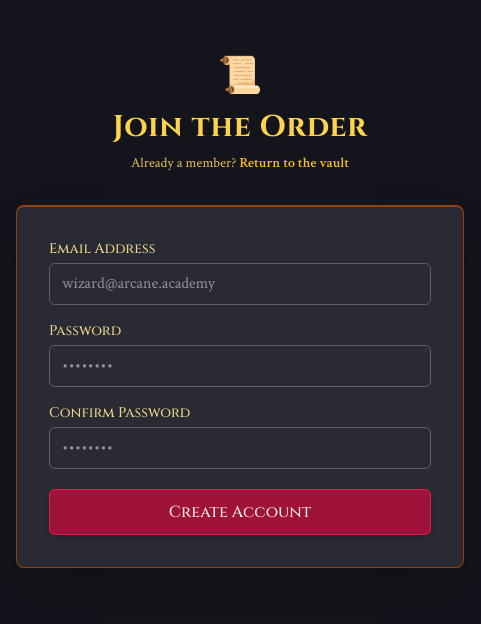
Test case: RegisterPage › shows a fallback error message when registration fails without response data
Step 1. Type "new@test.com" into the field labelled "Email Address" → (240, 284), box 49,262 -> 431,304
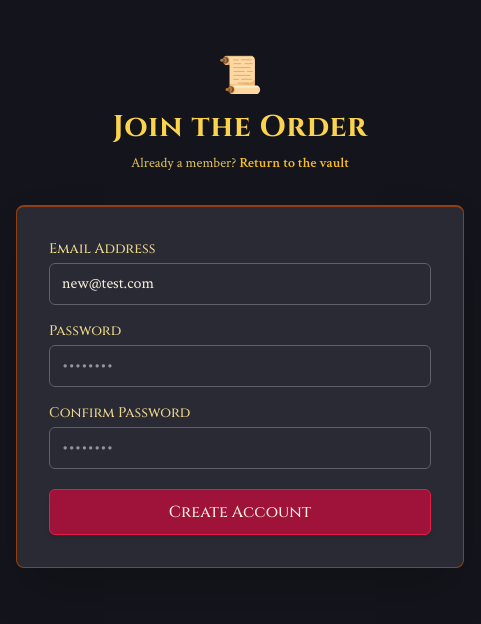
Step 2. Type "password123" into the password field labelled "Password" → (240, 366), box 49,344 -> 431,386
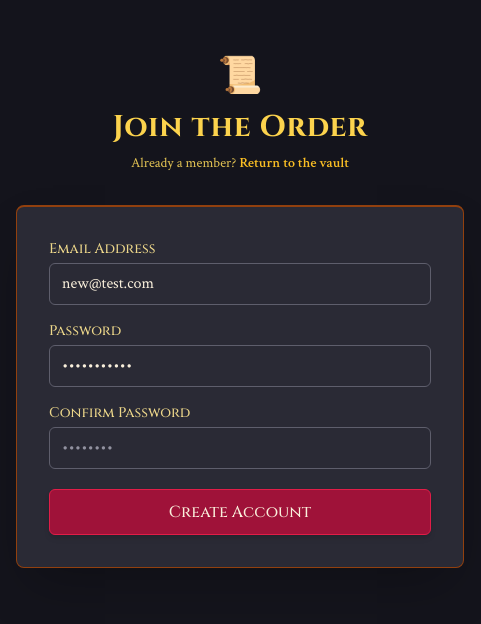
Step 3. Type "password123" into the password field labelled "Confirm Password" → (240, 448), box 49,426 -> 431,468
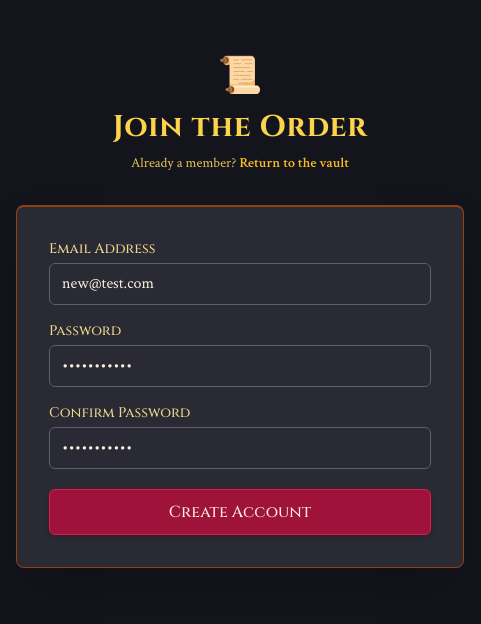
Step 4. Click the button "Create Account" → (240, 512), box 49,488 -> 431,534
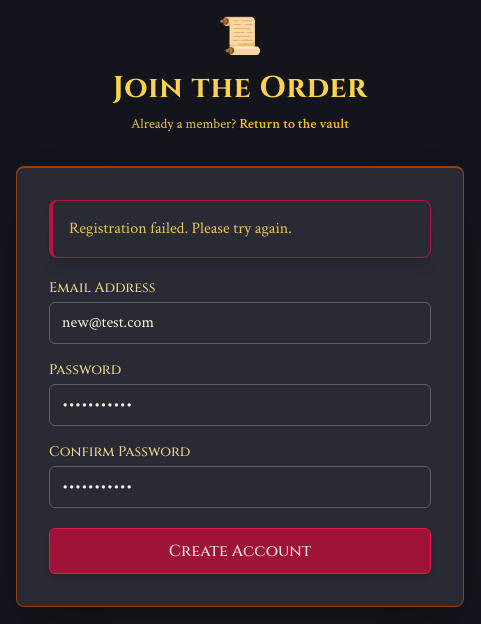
Expected: the text "Registration failed. Please try again." is shown, 69,218 -> 292,238
